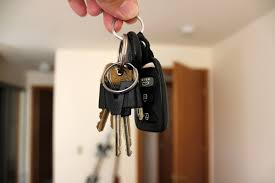keys: (96, 17, 168, 160)
